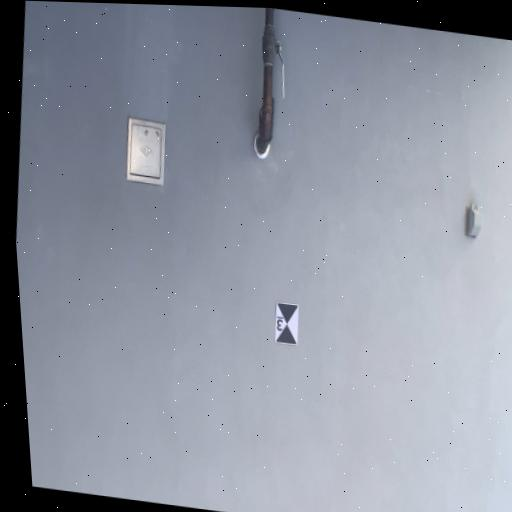target3: (276, 301, 298, 345)
